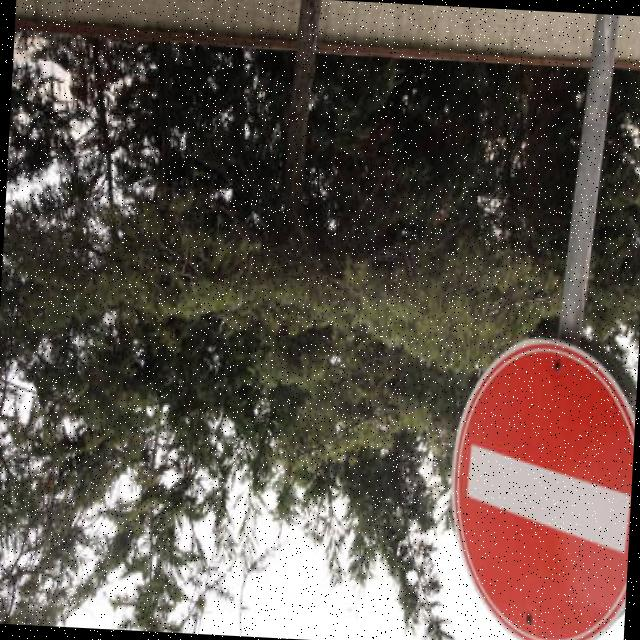do_not_enter: (434, 331, 639, 640)
